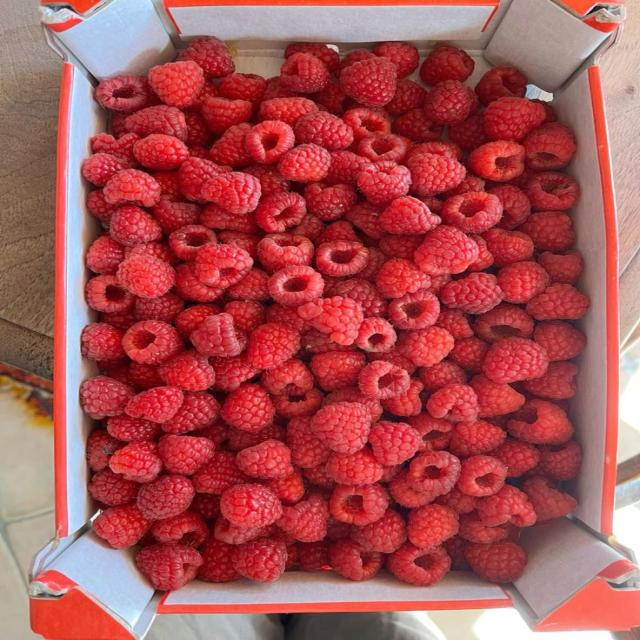raspberry: (414, 226, 479, 275), (136, 543, 202, 591), (298, 297, 364, 345), (482, 337, 548, 383), (507, 399, 573, 444), (311, 402, 370, 452), (340, 58, 398, 106), (407, 451, 460, 503), (483, 97, 545, 141), (387, 543, 451, 585), (148, 60, 204, 107), (220, 484, 282, 526), (440, 273, 503, 314), (122, 321, 182, 364), (523, 122, 576, 170), (220, 384, 274, 431), (407, 153, 466, 196), (137, 475, 194, 519), (465, 541, 526, 582), (93, 505, 151, 548), (192, 451, 248, 495), (441, 192, 502, 232), (247, 323, 300, 369), (351, 509, 406, 553), (522, 477, 577, 521), (201, 172, 260, 213), (196, 245, 252, 288), (278, 494, 328, 542), (478, 485, 535, 527), (117, 256, 174, 298), (230, 540, 287, 582), (330, 484, 388, 525), (161, 392, 219, 433), (357, 162, 411, 206), (369, 421, 421, 466), (294, 112, 353, 151), (158, 434, 214, 475), (468, 141, 524, 182), (407, 504, 459, 548), (424, 80, 476, 124), (158, 350, 215, 390), (190, 313, 243, 356), (80, 376, 133, 419), (180, 36, 234, 78), (470, 376, 525, 417), (497, 261, 549, 304), (527, 284, 589, 320), (236, 440, 293, 479), (379, 197, 439, 234), (519, 211, 574, 251), (375, 258, 430, 298), (310, 351, 365, 391), (257, 234, 313, 273), (474, 305, 533, 342), (109, 442, 162, 483), (329, 541, 384, 580), (398, 327, 453, 366), (534, 321, 586, 362), (245, 121, 294, 164), (420, 45, 474, 84), (126, 105, 186, 140), (270, 266, 322, 306), (450, 420, 506, 457), (526, 172, 579, 211), (332, 279, 386, 317), (388, 290, 439, 330), (95, 75, 150, 112), (151, 512, 209, 547), (278, 144, 330, 183), (178, 158, 224, 202), (457, 455, 506, 496), (524, 362, 578, 399), (126, 387, 183, 422), (427, 383, 478, 422), (475, 66, 526, 105), (110, 206, 161, 245), (305, 183, 357, 221), (201, 97, 253, 135), (324, 387, 382, 421), (280, 53, 329, 93), (256, 192, 305, 232), (483, 228, 533, 267), (134, 134, 188, 170), (359, 361, 410, 399), (210, 353, 261, 391), (209, 122, 252, 167), (87, 469, 139, 506), (175, 262, 223, 302), (491, 438, 540, 477), (315, 241, 368, 277), (85, 275, 135, 313), (153, 198, 200, 238), (488, 185, 530, 229), (198, 537, 239, 582), (262, 358, 313, 394), (537, 441, 582, 480), (200, 204, 258, 233), (258, 97, 318, 125), (392, 109, 442, 142), (169, 225, 216, 260), (389, 470, 433, 507), (81, 323, 125, 360), (374, 42, 419, 78), (82, 153, 131, 186), (343, 107, 390, 141), (227, 425, 286, 452), (460, 512, 509, 544), (285, 43, 339, 72), (449, 114, 489, 152), (385, 79, 426, 116), (214, 517, 270, 544), (218, 74, 266, 105), (174, 305, 219, 338), (326, 151, 369, 185), (419, 360, 466, 391), (107, 414, 159, 442), (134, 293, 184, 322), (346, 202, 385, 239), (449, 336, 488, 373), (86, 235, 123, 274), (538, 252, 583, 284), (273, 389, 322, 418), (227, 268, 270, 301), (367, 347, 417, 375), (355, 318, 396, 352), (358, 134, 409, 161), (245, 165, 289, 196), (225, 301, 266, 334), (125, 241, 178, 266), (267, 303, 311, 332), (267, 470, 305, 503), (220, 230, 260, 260), (312, 81, 347, 115), (335, 49, 376, 78), (185, 113, 212, 157), (435, 308, 473, 339), (440, 174, 486, 198), (315, 220, 359, 245), (436, 488, 478, 514), (406, 141, 462, 160), (87, 190, 115, 224), (443, 535, 470, 570), (468, 235, 493, 272), (130, 361, 163, 389), (360, 247, 386, 282), (304, 463, 335, 489), (190, 494, 219, 520), (154, 172, 181, 197), (533, 99, 557, 123), (428, 274, 452, 294), (110, 112, 127, 137), (381, 465, 402, 482)
